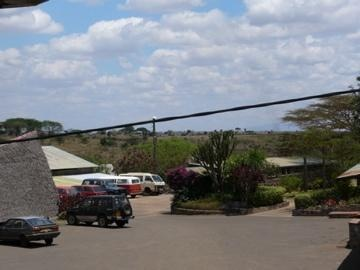car: (66, 195, 135, 231), (2, 216, 62, 250), (118, 172, 167, 198), (84, 180, 128, 198), (115, 176, 144, 198), (73, 185, 107, 197), (57, 187, 76, 202)
